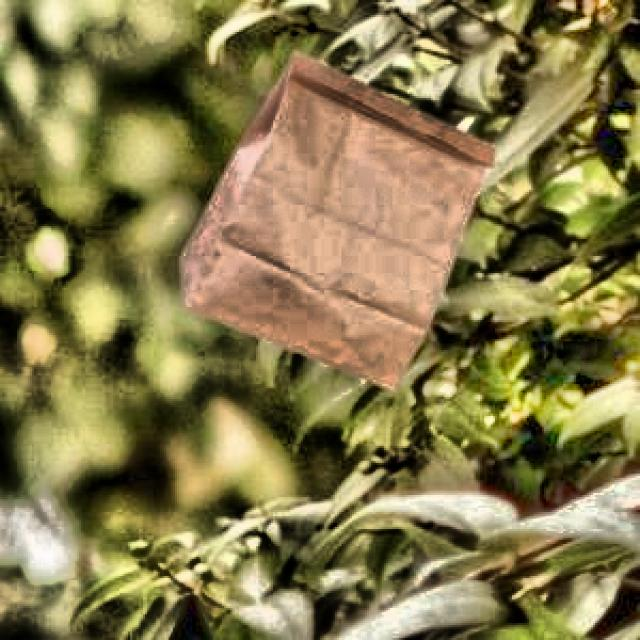Paper-bag: (177, 40, 508, 410)
